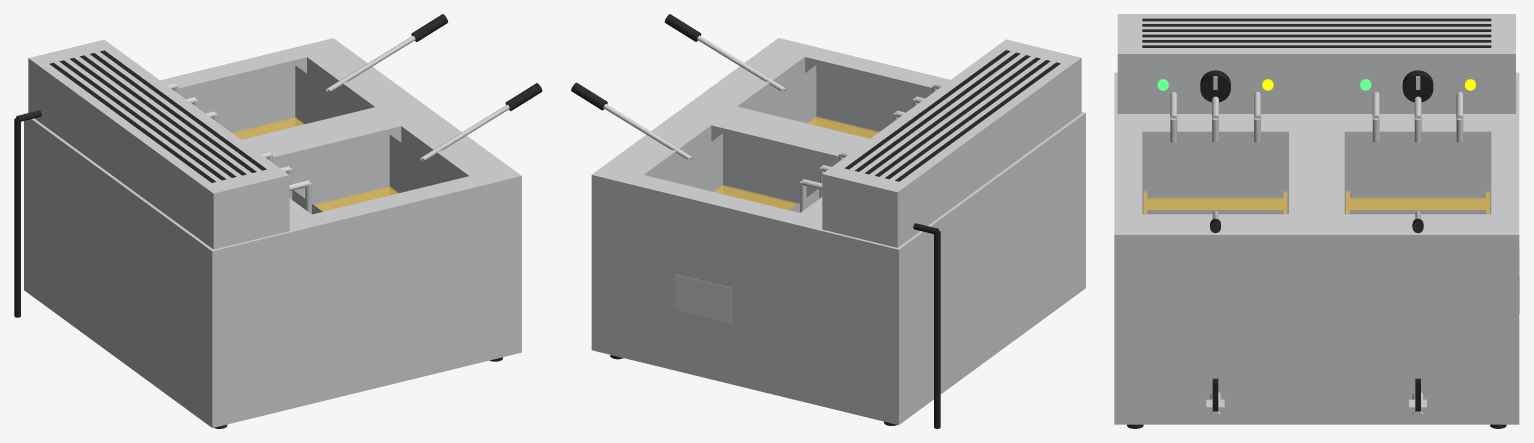
The model's file is Doppelfriteuse.glb.
The picture shows the model from 3 angles, left to right: view 1: azimuth 30°, elevation 25°; view 2: azimuth 150°, elevation 25°; view 3: azimuth 270°, elevation 25°; orthographic projection. The views are drawn at different scales.
Visible parts, largest first — view 1: Fritteuse_IMBISS_II_Gehaeuse, Fritteuse_IMBISS_II, Fritteuse_IMBISS_II_Schaltkasten, Fritteuse_IMBISS_II_Kabel2; view 2: Fritteuse_IMBISS_II_Gehaeuse, Fritteuse_IMBISS_II, Fritteuse_IMBISS_II_Schaltkasten, Fritteuse_IMBISS_II_Typenschild, Fritteuse_IMBISS_II_Kabel2; view 3: Fritteuse_IMBISS_II_Gehaeuse, Fritteuse_IMBISS_II, Fritteuse_IMBISS_II_Schaltkasten.
Boxes of the visible parts, left/top/right/bottom form: Fritteuse_IMBISS_II_Gehaeuse: left=24, top=38, right=521, bottom=427; Fritteuse_IMBISS_II: left=49, top=14, right=542, bottom=214; Fritteuse_IMBISS_II_Schaltkasten: left=28, top=39, right=289, bottom=249; Fritteuse_IMBISS_II_Kabel2: left=14, top=118, right=20, bottom=317; Fritteuse_IMBISS_II_Gehaeuse: left=591, top=38, right=1085, bottom=424; Fritteuse_IMBISS_II: left=571, top=14, right=1060, bottom=212; Fritteuse_IMBISS_II_Schaltkasten: left=822, top=39, right=1081, bottom=247; Fritteuse_IMBISS_II_Typenschild: left=675, top=274, right=731, bottom=322; Fritteuse_IMBISS_II_Kabel2: left=934, top=230, right=940, bottom=428; Fritteuse_IMBISS_II_Gehaeuse: left=1114, top=72, right=1519, bottom=424; Fritteuse_IMBISS_II: left=1142, top=18, right=1491, bottom=423; Fritteuse_IMBISS_II_Schaltkasten: left=1117, top=14, right=1515, bottom=113.
Bounding box in the file's own units: 7.13 × 4.11 × 5.81.
